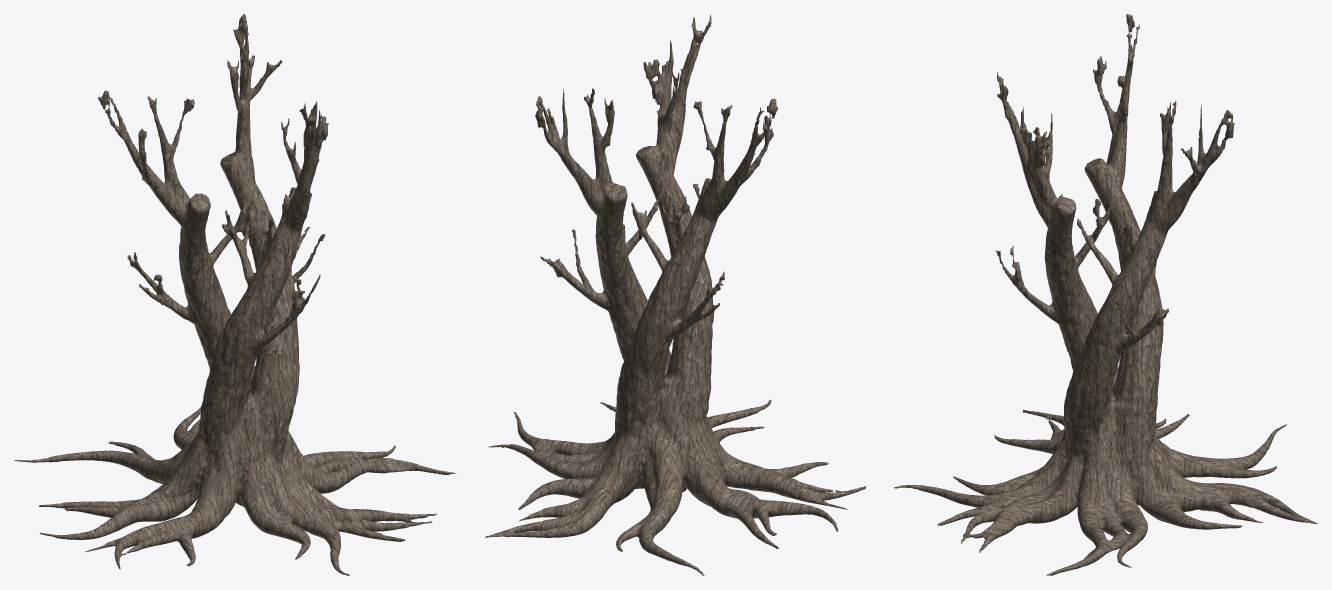
The model's file is dead-oak-v05.glb.
3 renders of one model, left to right at view 1: azimuth 30°, elevation 25°; view 2: azimuth 150°, elevation 25°; view 3: azimuth 270°, elevation 25°, orthographic. The views are drawn at different scales.
Visible parts, largest first — view 1: Dead oak v02 | connected branches; view 2: Dead oak v02 | connected branches; view 3: Dead oak v02 | connected branches.
Boxes of the visible parts, x1,y1,x2,y2 form: Dead oak v02 | connected branches: (14, 14, 455, 575); Dead oak v02 | connected branches: (485, 14, 865, 575); Dead oak v02 | connected branches: (894, 14, 1317, 575).
Bounding box in the file's own units: 5.71 × 6.51 × 5.75.
Materials: 1 (1 with a texture image).
